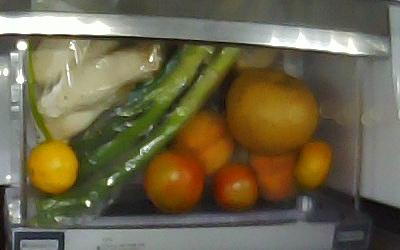peach: (172, 111, 236, 174), (246, 149, 297, 200)
pear: (228, 70, 320, 151)
tangerine: (29, 140, 77, 192), (293, 141, 332, 191)
tomato: (145, 150, 202, 210), (211, 162, 259, 211)
